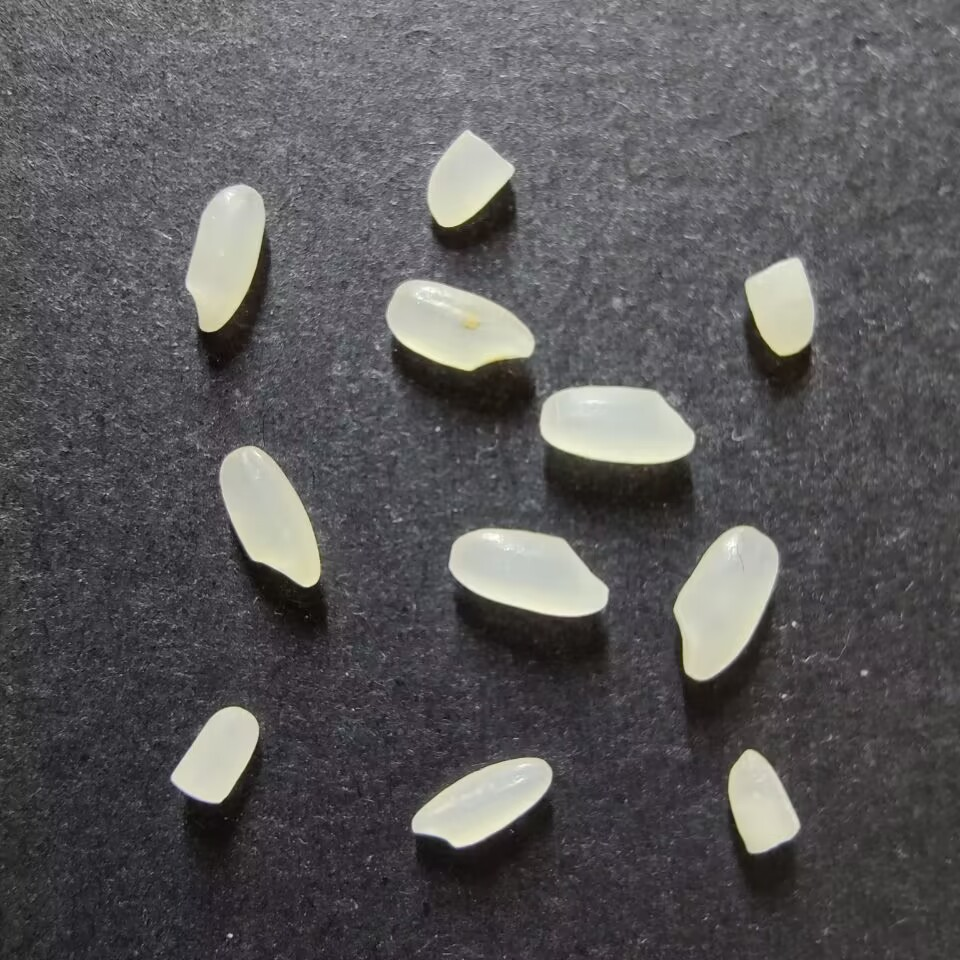broken: (169, 705, 260, 804), (425, 128, 515, 228), (726, 748, 801, 854), (743, 257, 815, 357)
rice: (672, 525, 778, 681), (447, 527, 609, 618), (218, 445, 320, 589), (386, 279, 534, 373), (410, 757, 553, 849), (539, 385, 694, 464), (184, 184, 265, 333)
